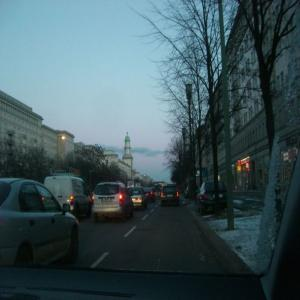Vehicle-registration-plate: (101, 198, 111, 203)
